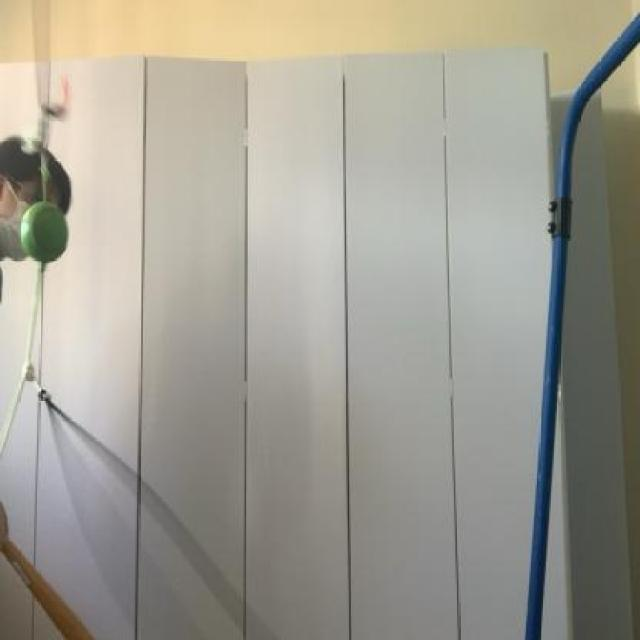baseball: (16, 202, 73, 264)
